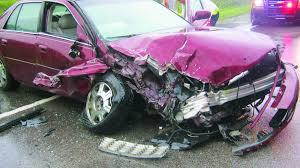bonnet-dent: (133, 30, 271, 75)
fender-dent: (85, 49, 132, 79)
front-bumper-dent: (227, 86, 299, 124)
